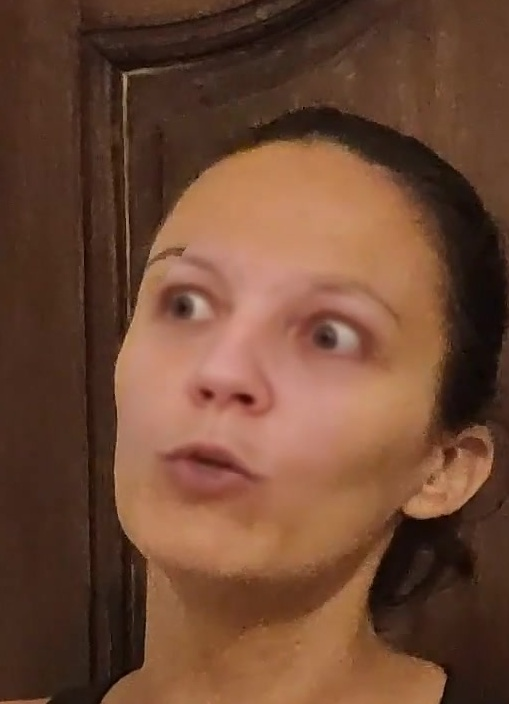eb_f: (136, 244, 417, 377)
